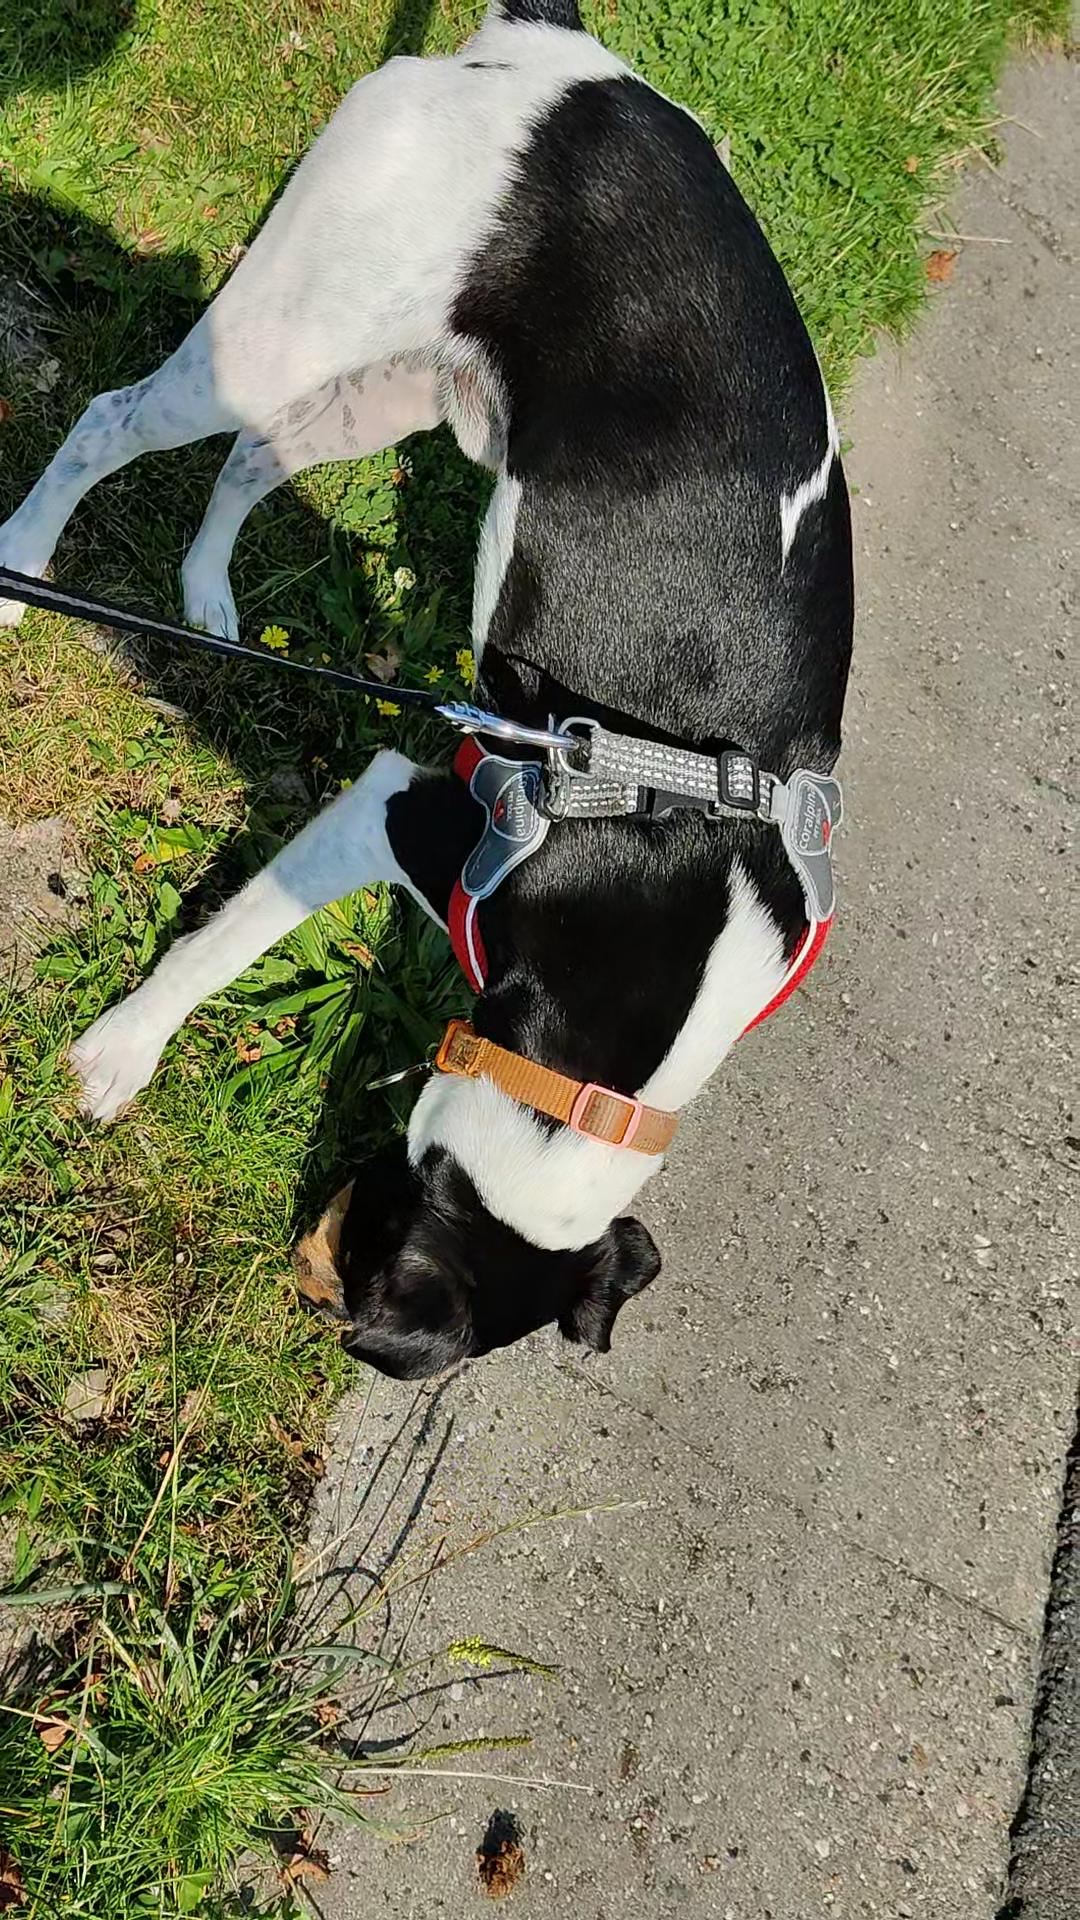Dog: (0, 0, 865, 1391)
